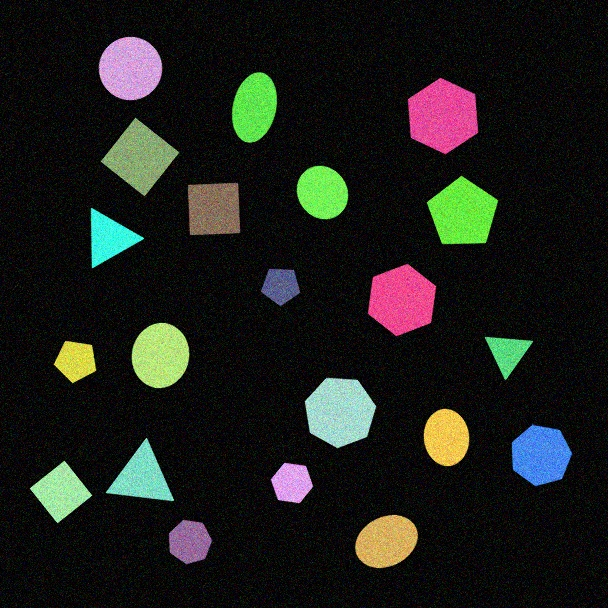Circulo: (98, 36, 163, 101), (131, 322, 190, 389), (296, 165, 349, 220)
Elipse: (354, 514, 419, 569), (231, 71, 278, 144), (423, 408, 470, 467)
Heptagono: (304, 377, 377, 449), (511, 424, 573, 487), (168, 519, 213, 565)
Hexagono: (407, 77, 479, 155), (367, 263, 437, 337), (270, 462, 314, 504)
Pentagono: (426, 175, 499, 245), (53, 340, 97, 384), (260, 268, 301, 307)
Quadrado: (100, 117, 180, 197), (29, 460, 93, 524), (187, 182, 241, 236)
Triangulo: (105, 438, 175, 502), (90, 207, 145, 269), (484, 336, 534, 381)
